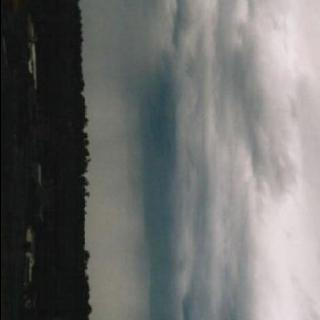Nimbostratus: (76, 0, 320, 320)
